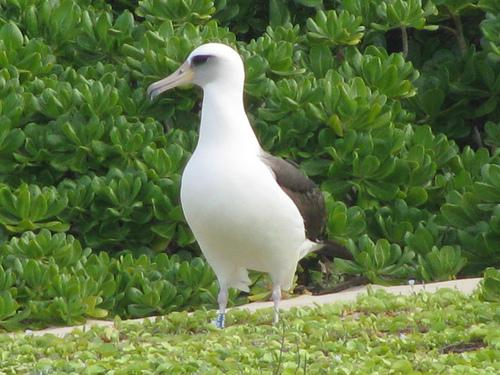002.Laysan_Albatross: (145, 43, 327, 332)
